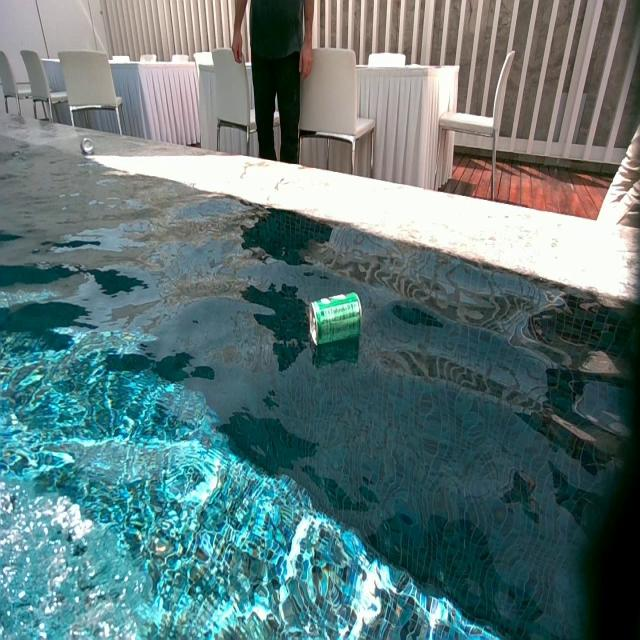Cans: (309, 287, 363, 348), (81, 137, 92, 153)
